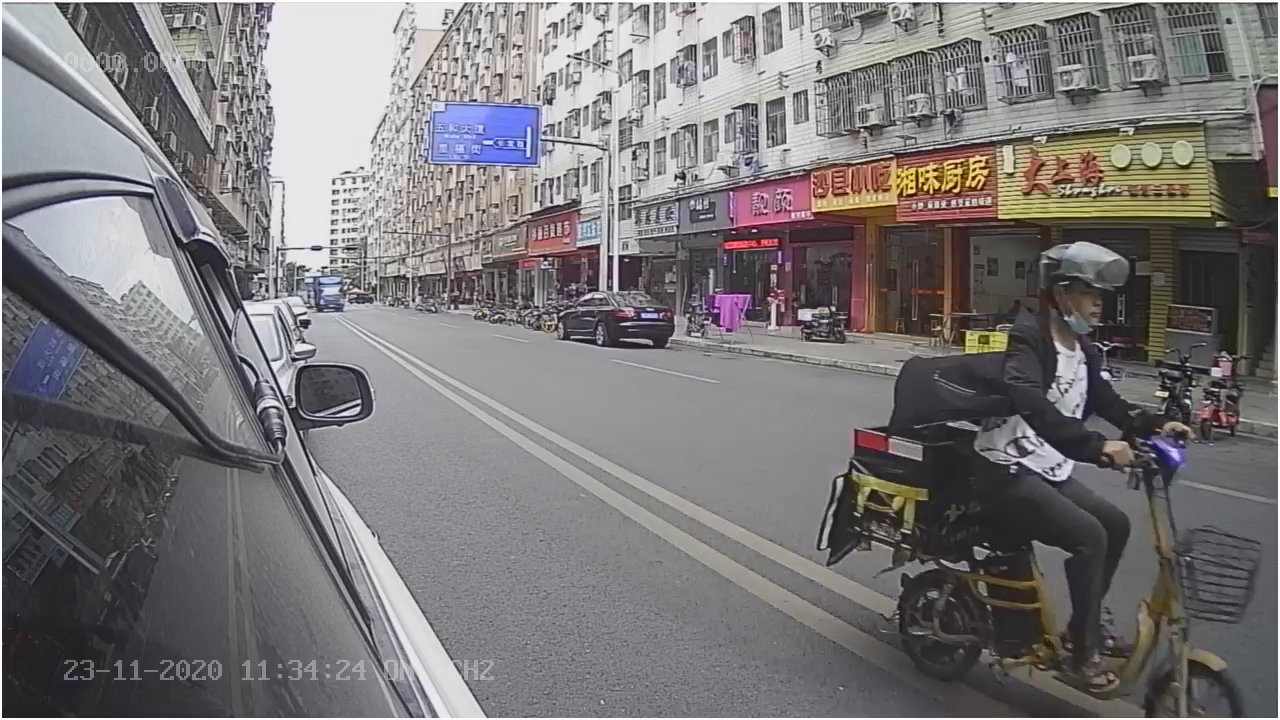person: (998, 239, 1171, 455)
